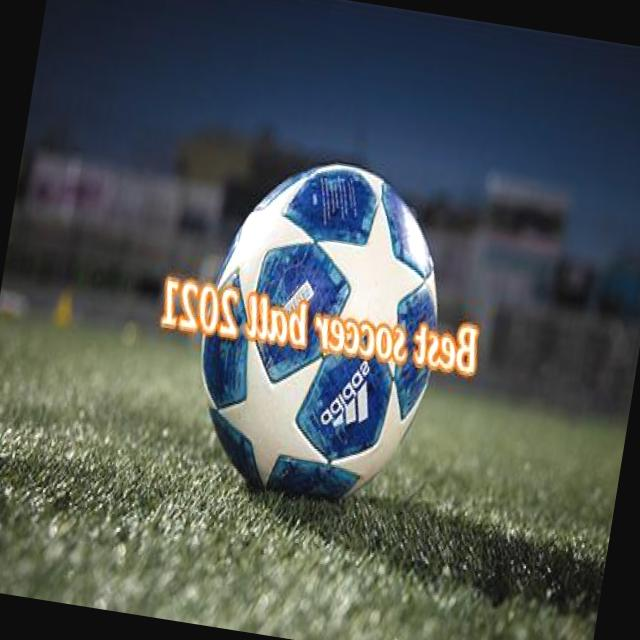Soccer Ball: (178, 148, 461, 520)
